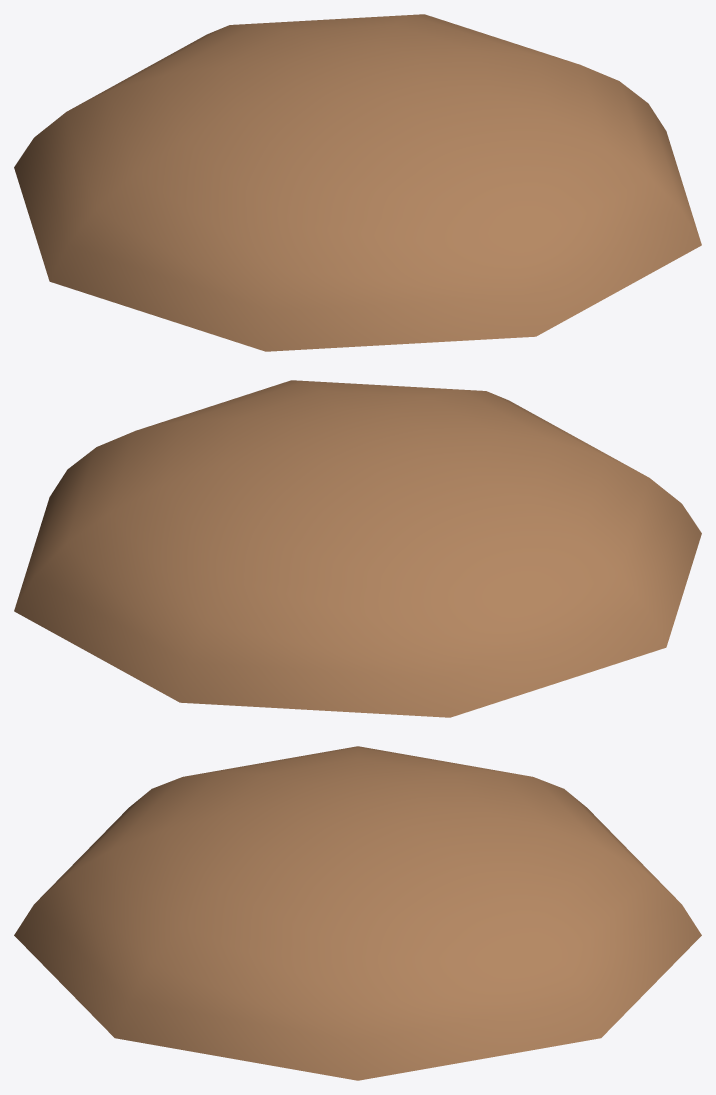
Rendered from areia2.fbx.
The picture shows the model from 3 angles, top to bottom: view 1: azimuth 30°, elevation 25°; view 2: azimuth 150°, elevation 25°; view 3: azimuth 270°, elevation 25°; orthographic projection. The views are drawn at different scales.
Parts seen in each view (by area): view 1: Sphere; view 2: Sphere; view 3: Sphere.
Part boxes in pixels (box(x1,y1,x2,y2)): Sphere: box(14, 14, 701, 351); Sphere: box(14, 380, 701, 717); Sphere: box(14, 746, 701, 1080).
Bounding box in the file's own units: 263 × 56.02 × 263.
